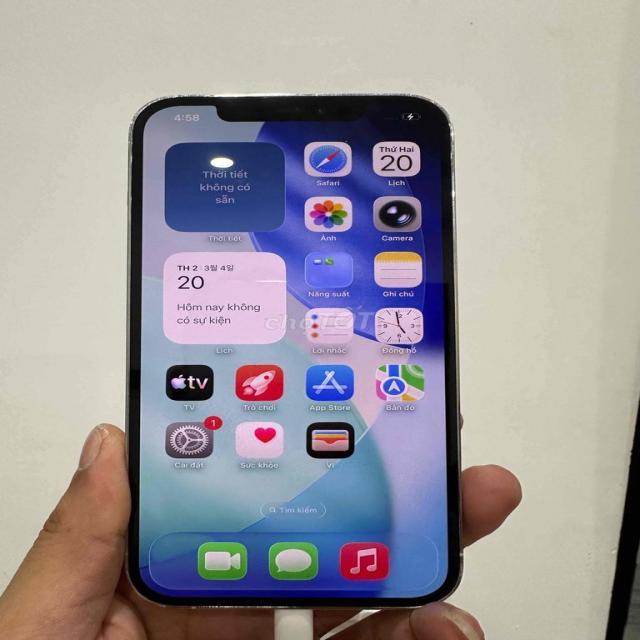gen_12_13: (122, 88, 473, 621)
